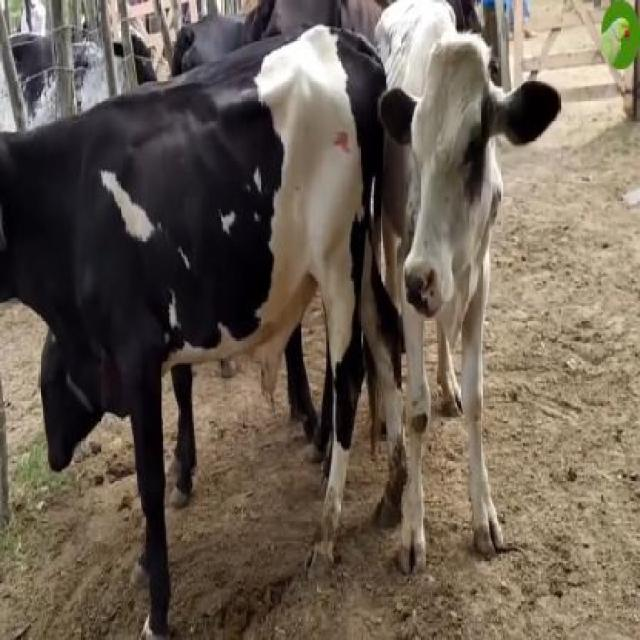Cow: (374, 0, 560, 578)
